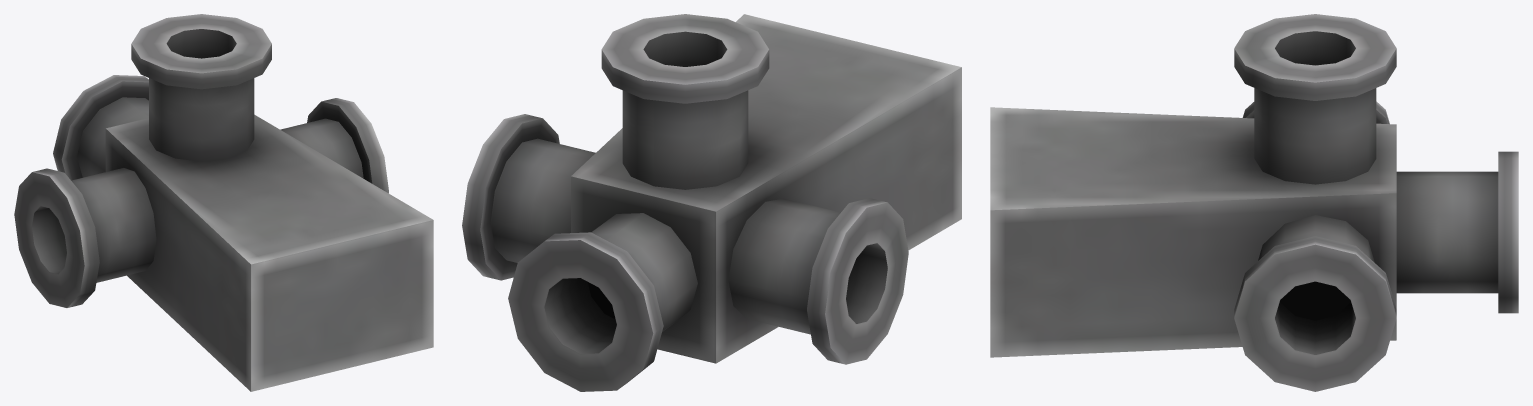
File: sp_rcs_srf_3_ex.obj
3 views of the same model, side by side, from view 1: azimuth 30°, elevation 25°; view 2: azimuth 150°, elevation 25°; view 3: azimuth 270°, elevation 25° (orthographic). The views are drawn at different scales.
Visible parts, largest first — view 1: mesh1; view 2: mesh1; view 3: mesh1.
Boxes of the visible parts, x1,y1,x2,y2 form: mesh1: [14, 14, 433, 391]; mesh1: [462, 14, 961, 391]; mesh1: [990, 14, 1518, 391].
Size of the model in its own units: 0.125 by 0.0875 by 0.1625.
Materials: 1 (1 with a texture image).
